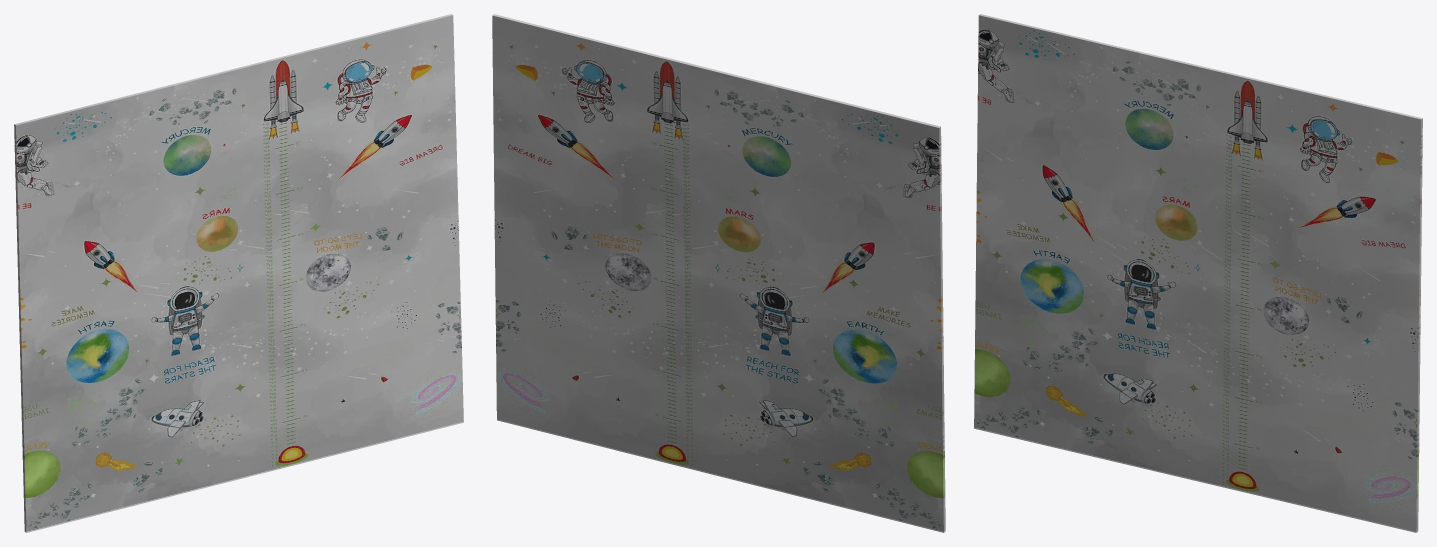
3 renders of one model, left to right at view 1: azimuth 30°, elevation 25°; view 2: azimuth 150°, elevation 25°; view 3: azimuth 330°, elevation 25°, orthographic. The views are drawn at different scales.
Parts seen in each view (by area): view 1: Mesh_0.014; view 2: Mesh_0.014; view 3: Mesh_0.014.
Part boxes in pixels (bbox=[...]): Mesh_0.014: bbox=[14, 14, 463, 532]; Mesh_0.014: bbox=[492, 14, 945, 532]; Mesh_0.014: bbox=[974, 14, 1422, 532].
Size of the model in its own units: 2.29 by 2.02 by 0.0852.
1 material, 1 textured.
